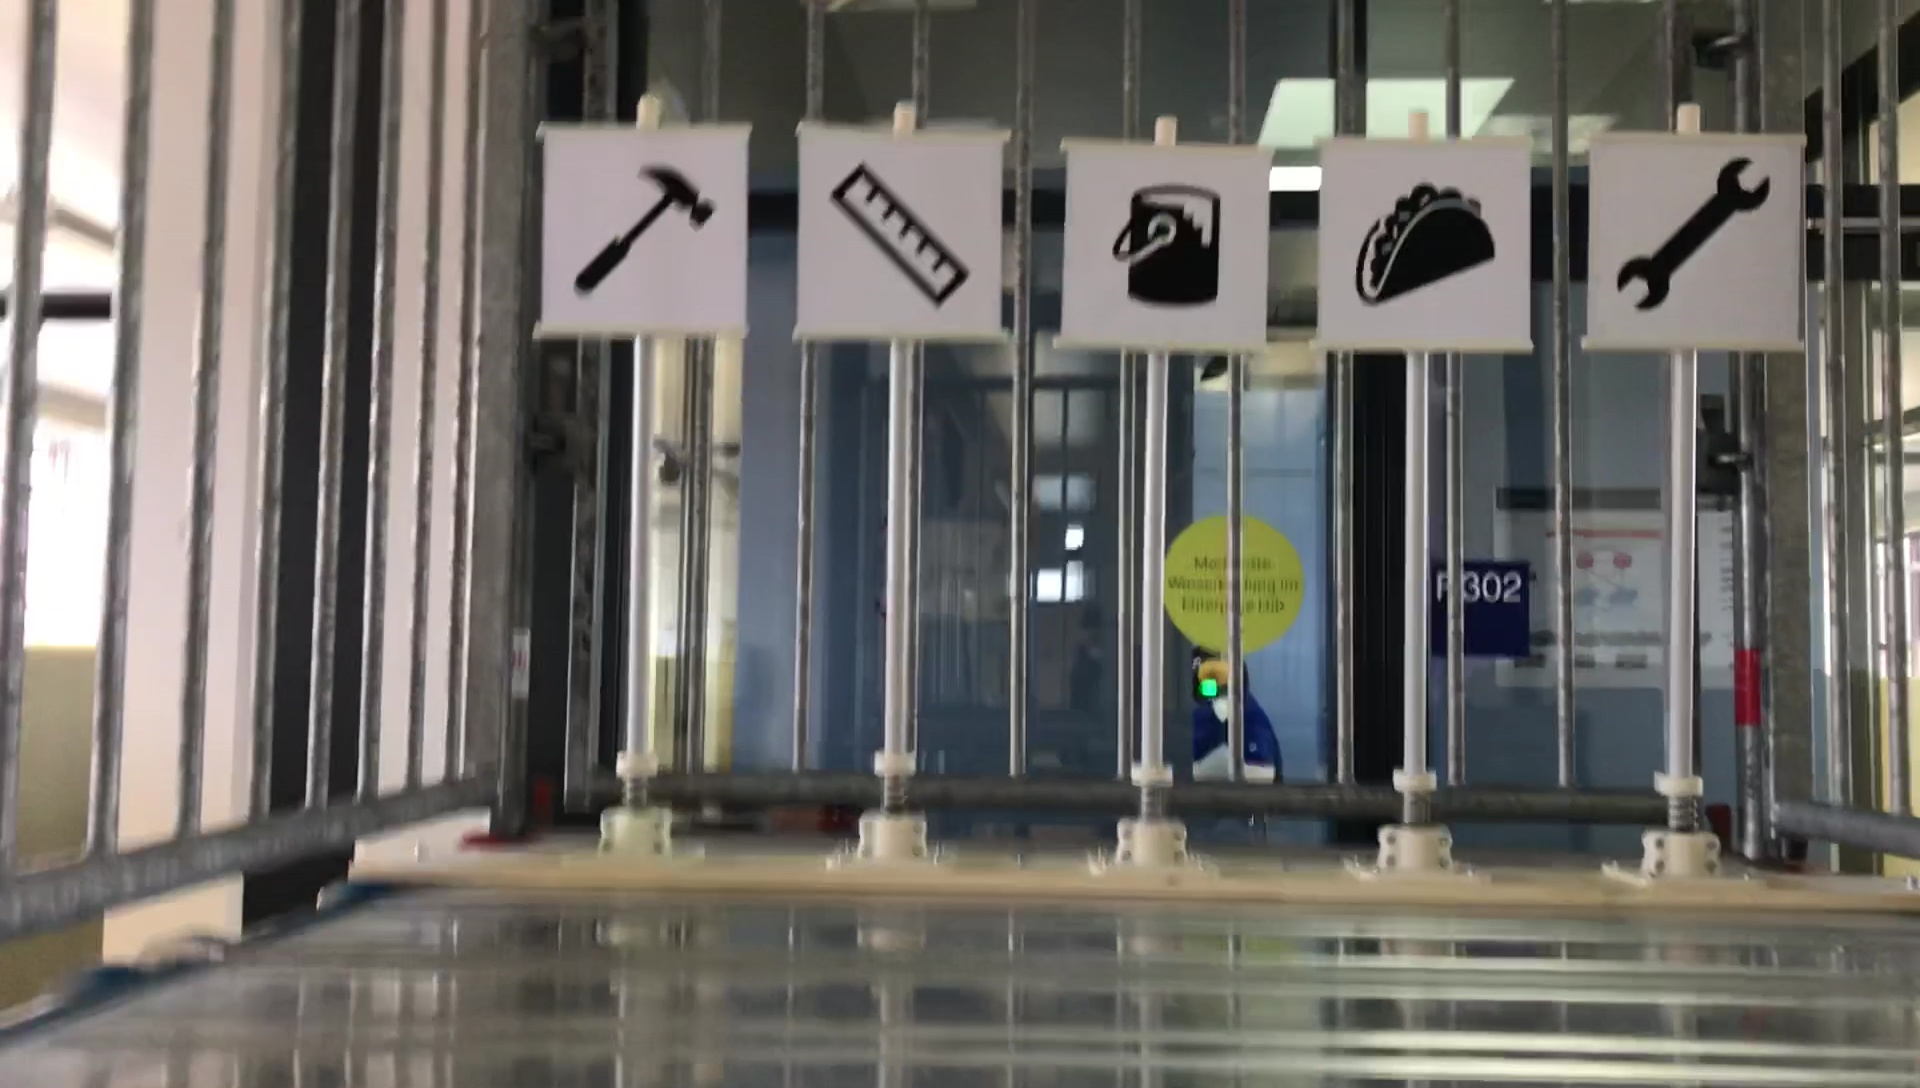bucket: (1102, 181, 1238, 313)
hammer: (567, 156, 720, 299)
ruler: (824, 154, 975, 313)
taco: (1356, 171, 1501, 311)
wrench: (1614, 153, 1778, 307)
